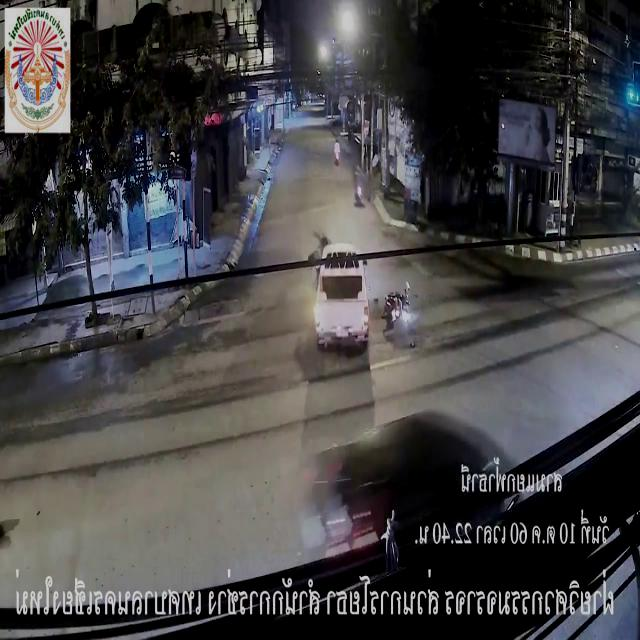accident: (383, 292, 407, 332)
